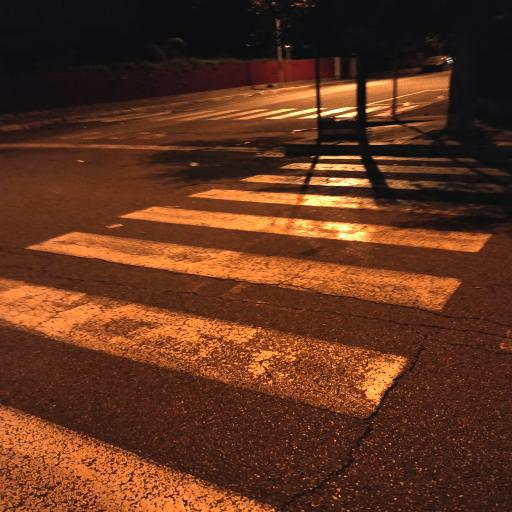crosswalk: (8, 202, 500, 316)
